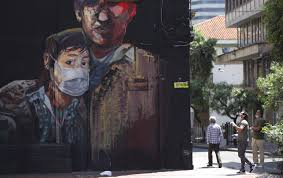mask: (232, 105, 250, 123), (253, 108, 264, 119)
